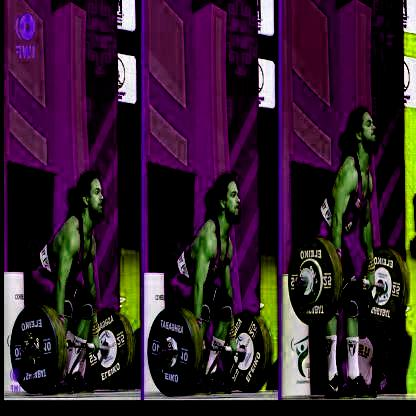Barbell: (14, 332, 34, 367), (152, 339, 172, 371), (290, 268, 313, 295)
